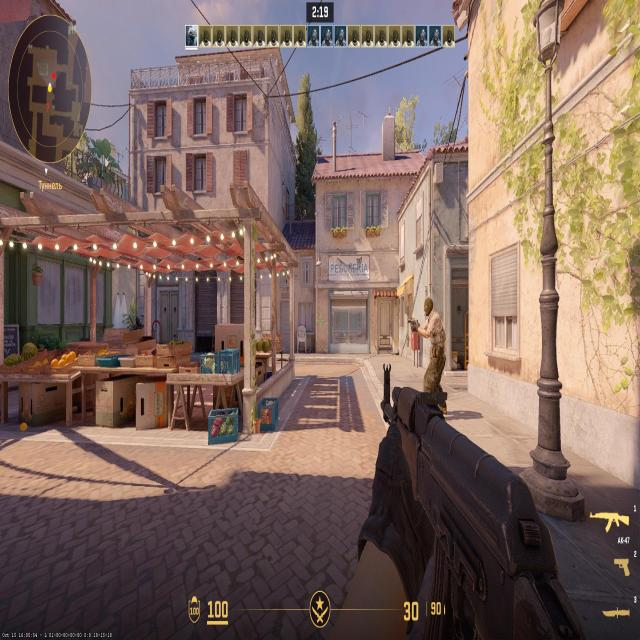T: (424, 299, 446, 387)
T_heat: (425, 300, 435, 319)
